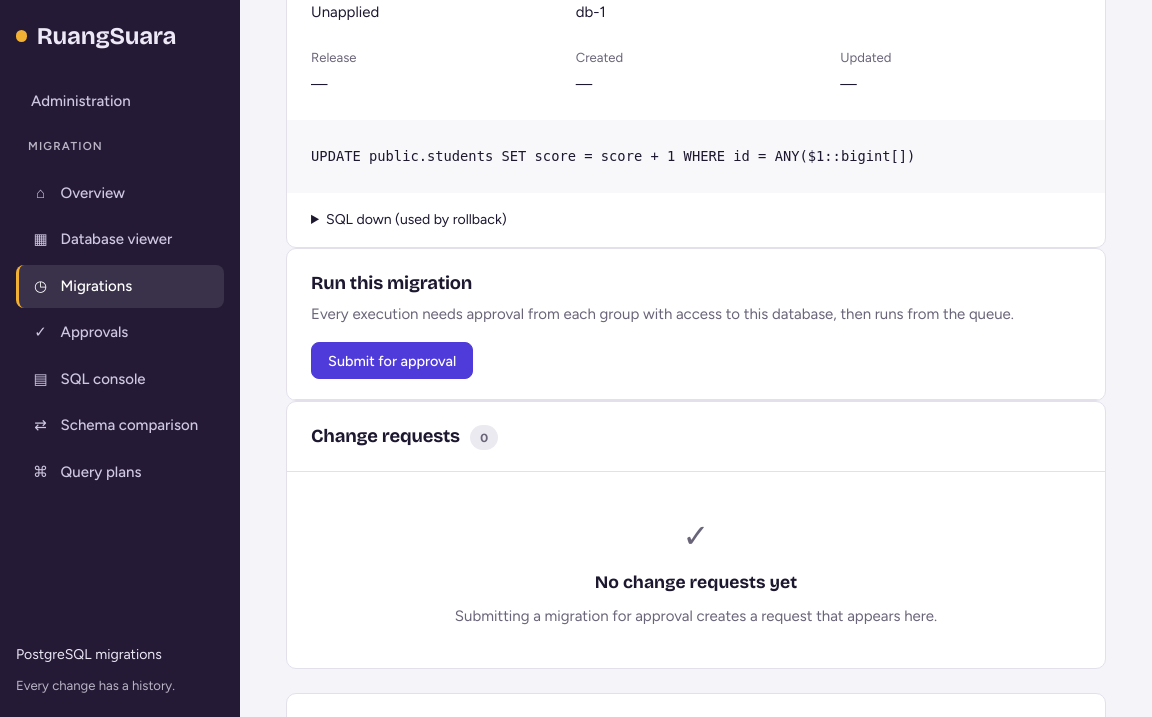
Asynchronous migration submission › displays submission permission errors without navigating away
(page scrolled)
Click the button "Submit for approval" at {"x": 392, "y": 361}, box [311, 342, 473, 379]
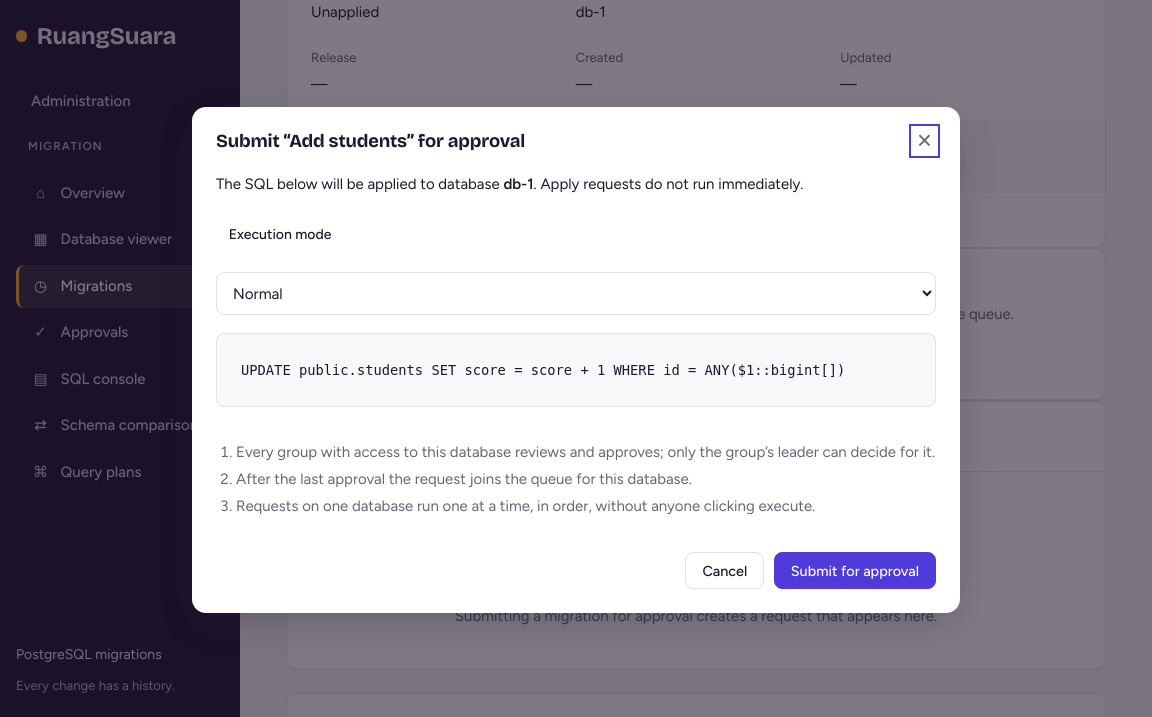
Click the button "Submit for approval" at {"x": 855, "y": 571}, box [774, 552, 936, 589]
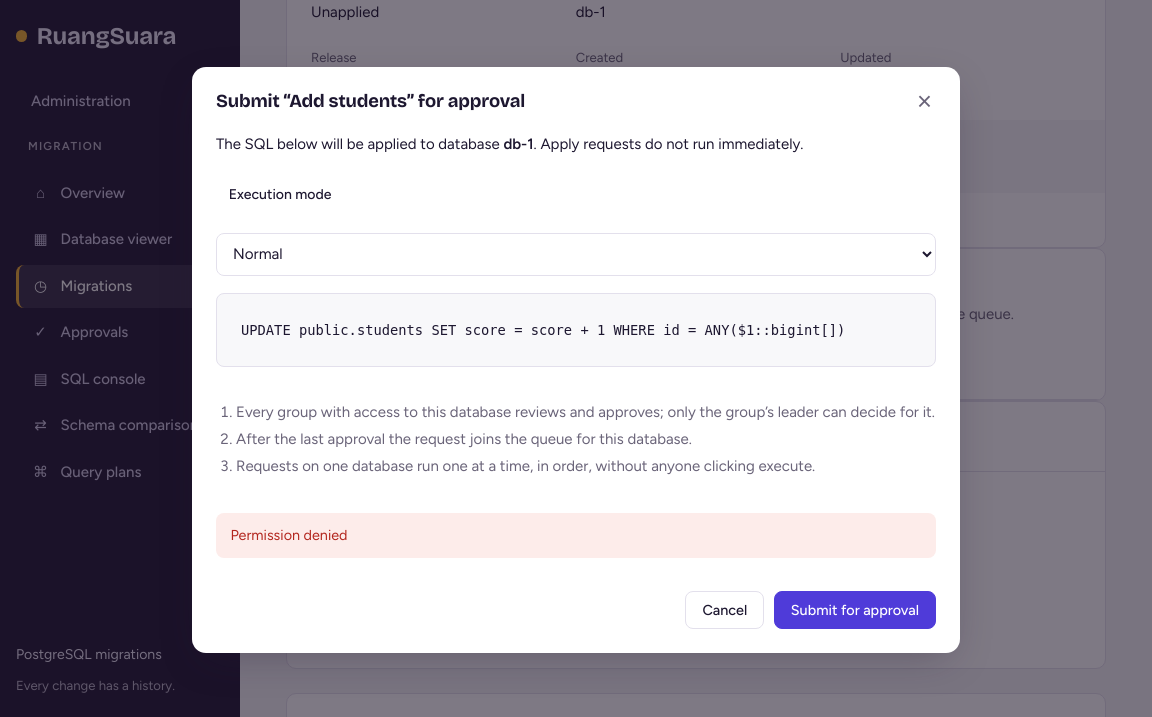
Now the button "Submit for approval" is enabled, box [774, 591, 936, 629]
Now the message reads "Permission denied", box [230, 526, 348, 544]
